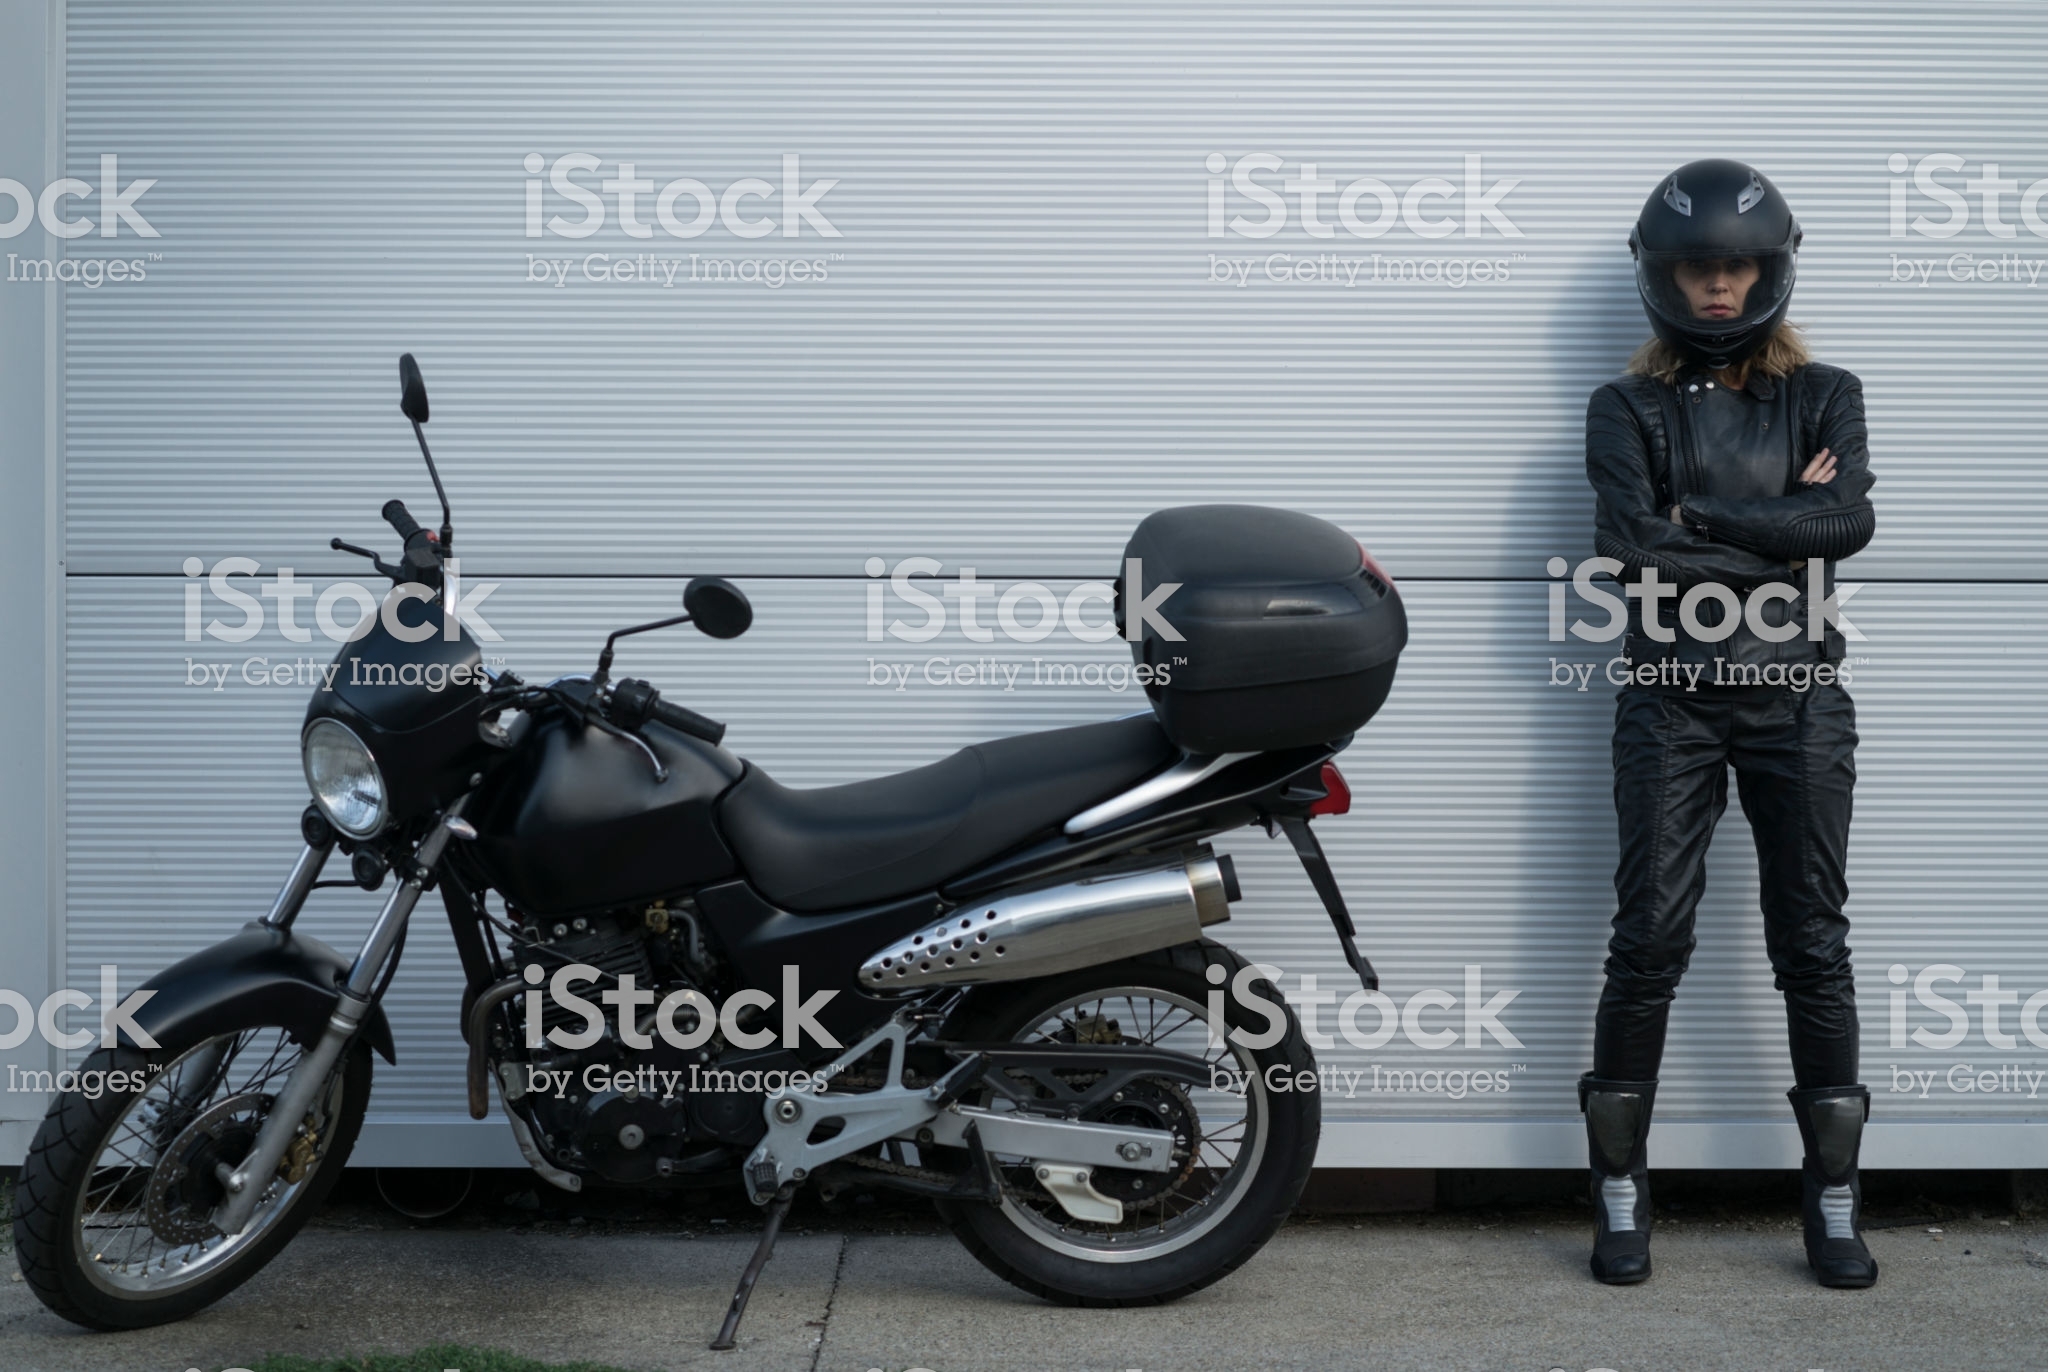helmet: (1603, 158, 1838, 351)
